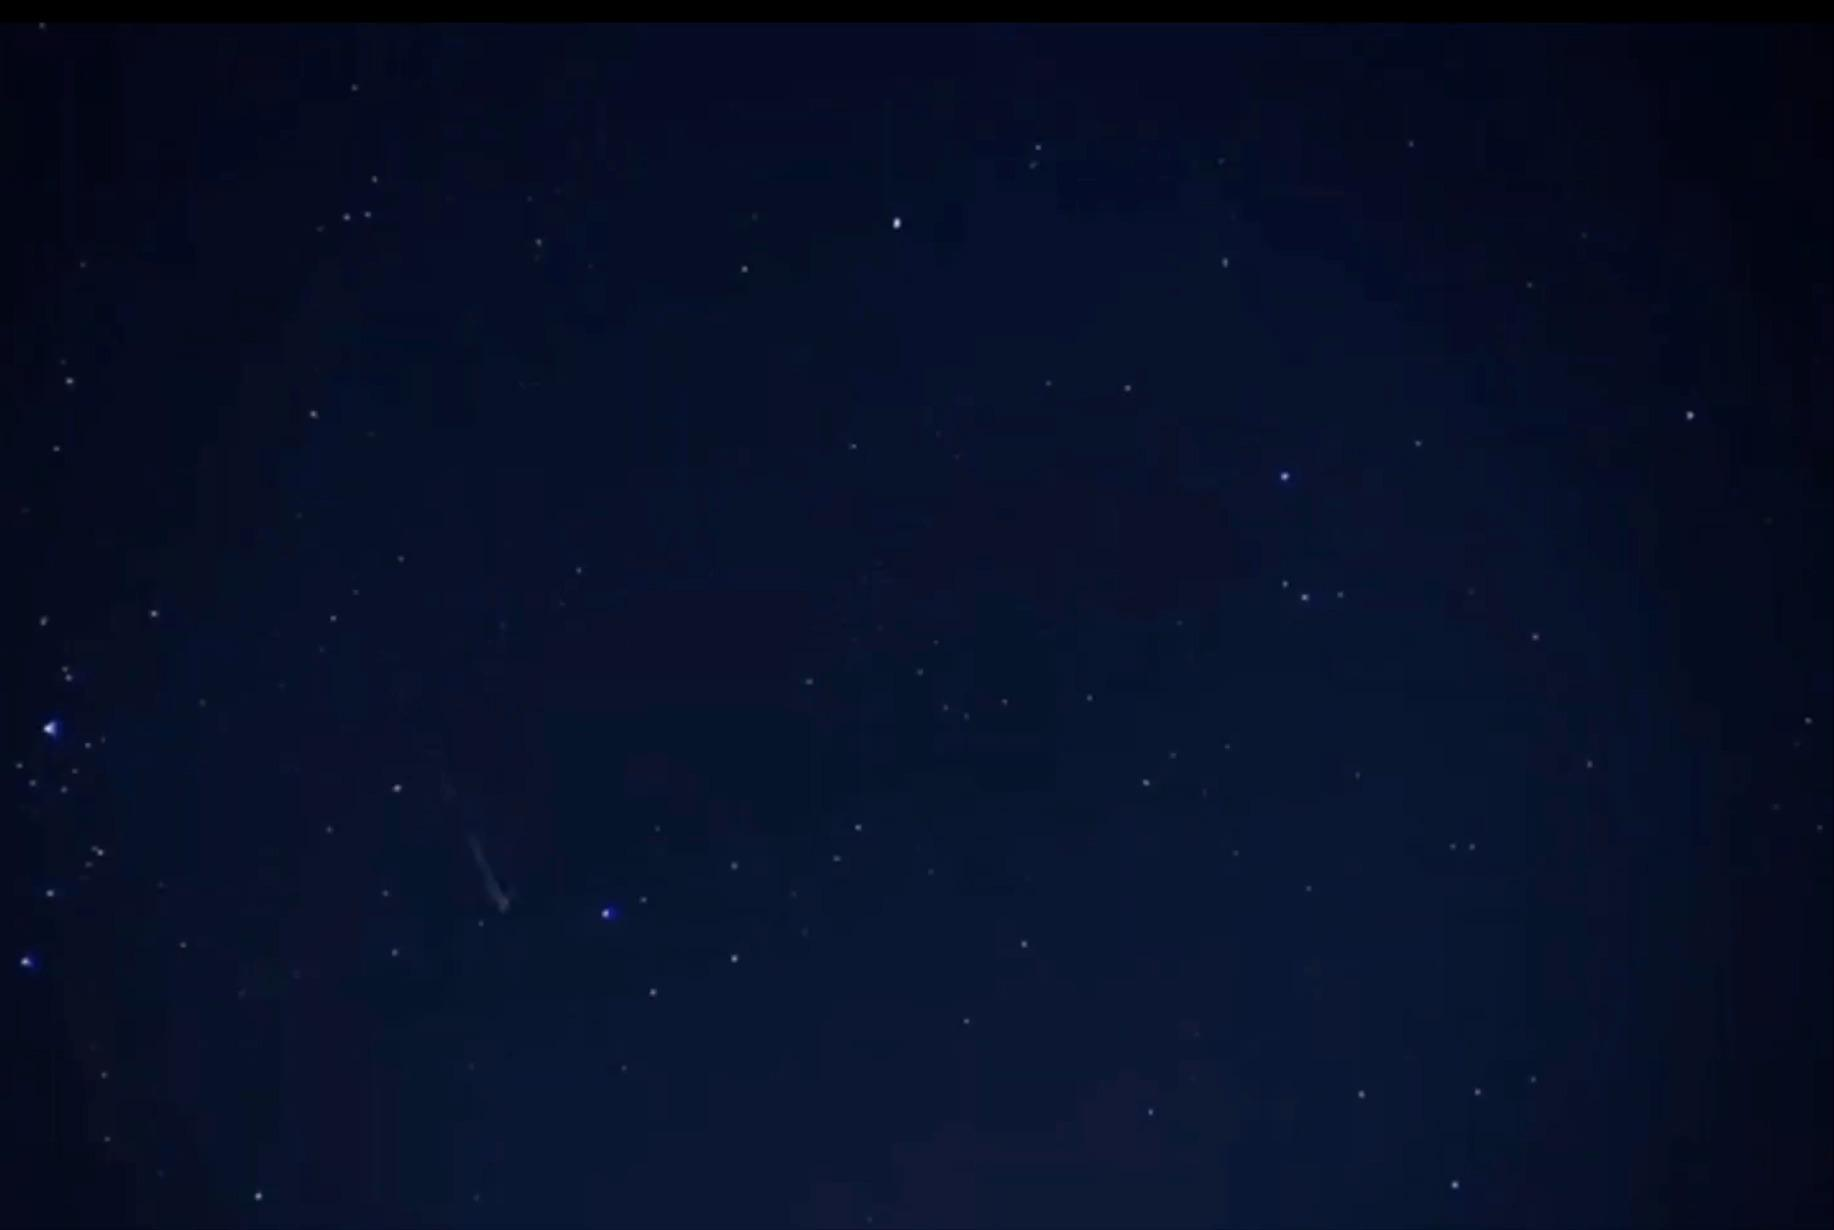meteorite: (420, 814, 564, 925)
